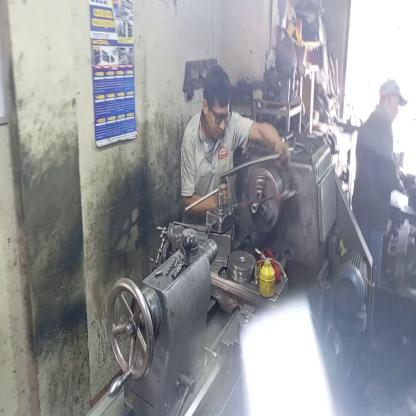lentes: (208, 102, 232, 128)
